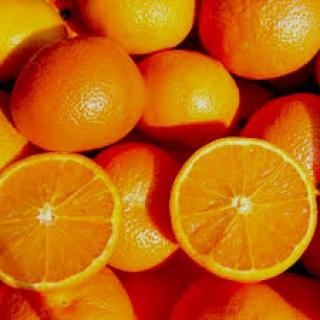orange: (170, 128, 320, 296), (0, 131, 138, 299), (6, 37, 154, 150)
